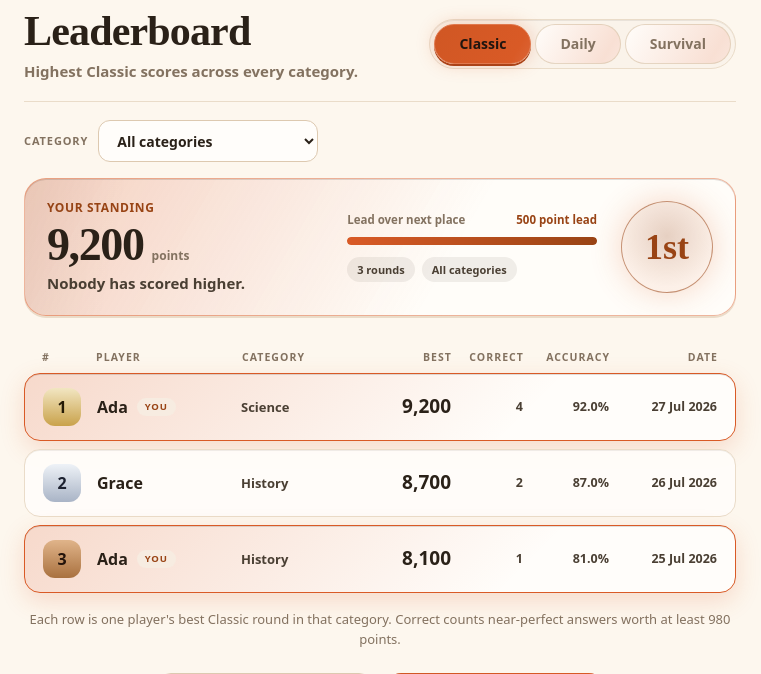
Test: Classic leaderboard screen › filters rows to a selected category and reranks the result
Select "History" in the dropdown labelled "Category": (208, 141) x1=98 y1=120 x2=318 y2=162
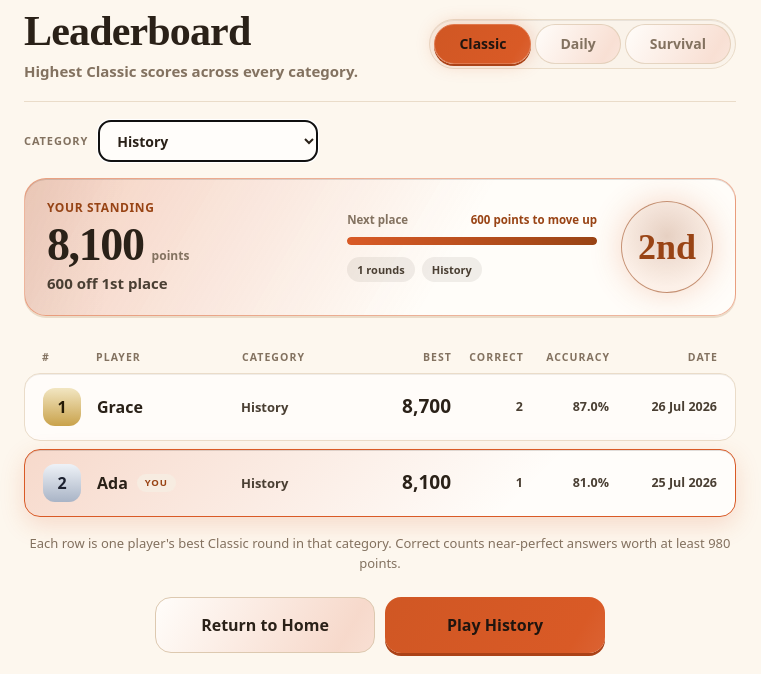
Expected: the text "Grace" is shown, x1=97 y1=395 x2=143 y2=420
Expected: the 1st text "1" is shown, x1=43 y1=388 x2=81 y2=426
Expected: the 2nd text "2" is shown, x1=43 y1=464 x2=81 y2=502
